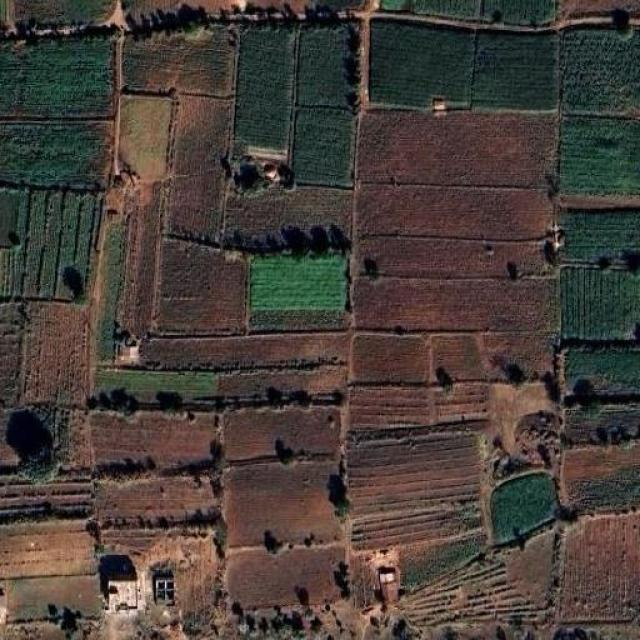land-Sx1C: (350, 424, 481, 549), (359, 110, 554, 187), (0, 188, 102, 301), (1, 519, 102, 633), (356, 278, 555, 331), (226, 462, 340, 554), (358, 185, 552, 239), (400, 560, 546, 626), (166, 96, 232, 242), (221, 186, 350, 255), (560, 512, 640, 622), (370, 21, 472, 107), (0, 39, 110, 117), (90, 411, 218, 478), (156, 239, 245, 334), (566, 402, 640, 514), (359, 236, 546, 279), (124, 28, 235, 97), (225, 545, 344, 608), (144, 332, 346, 369), (20, 302, 89, 406), (235, 28, 294, 149), (0, 122, 108, 187), (472, 32, 558, 109), (561, 29, 640, 112), (88, 369, 225, 414), (560, 116, 640, 193), (225, 409, 336, 463), (0, 405, 90, 470), (125, 0, 312, 31), (127, 181, 164, 337), (562, 268, 640, 339), (96, 476, 218, 521), (564, 442, 640, 513), (252, 254, 346, 310), (296, 24, 358, 108), (96, 206, 128, 362), (292, 108, 355, 187), (489, 381, 554, 454), (401, 532, 485, 588), (221, 369, 344, 406), (119, 95, 172, 179), (380, 0, 556, 25), (178, 538, 225, 626), (562, 210, 640, 261), (1, 481, 94, 523), (505, 529, 553, 604), (354, 336, 429, 382), (566, 345, 640, 391), (570, 467, 640, 514), (350, 389, 429, 427), (0, 302, 25, 406), (345, 554, 384, 613), (14, 1, 114, 24), (434, 336, 485, 380), (435, 382, 488, 422), (251, 310, 346, 332), (565, 0, 640, 17), (559, 196, 640, 210), (303, 0, 371, 16)
